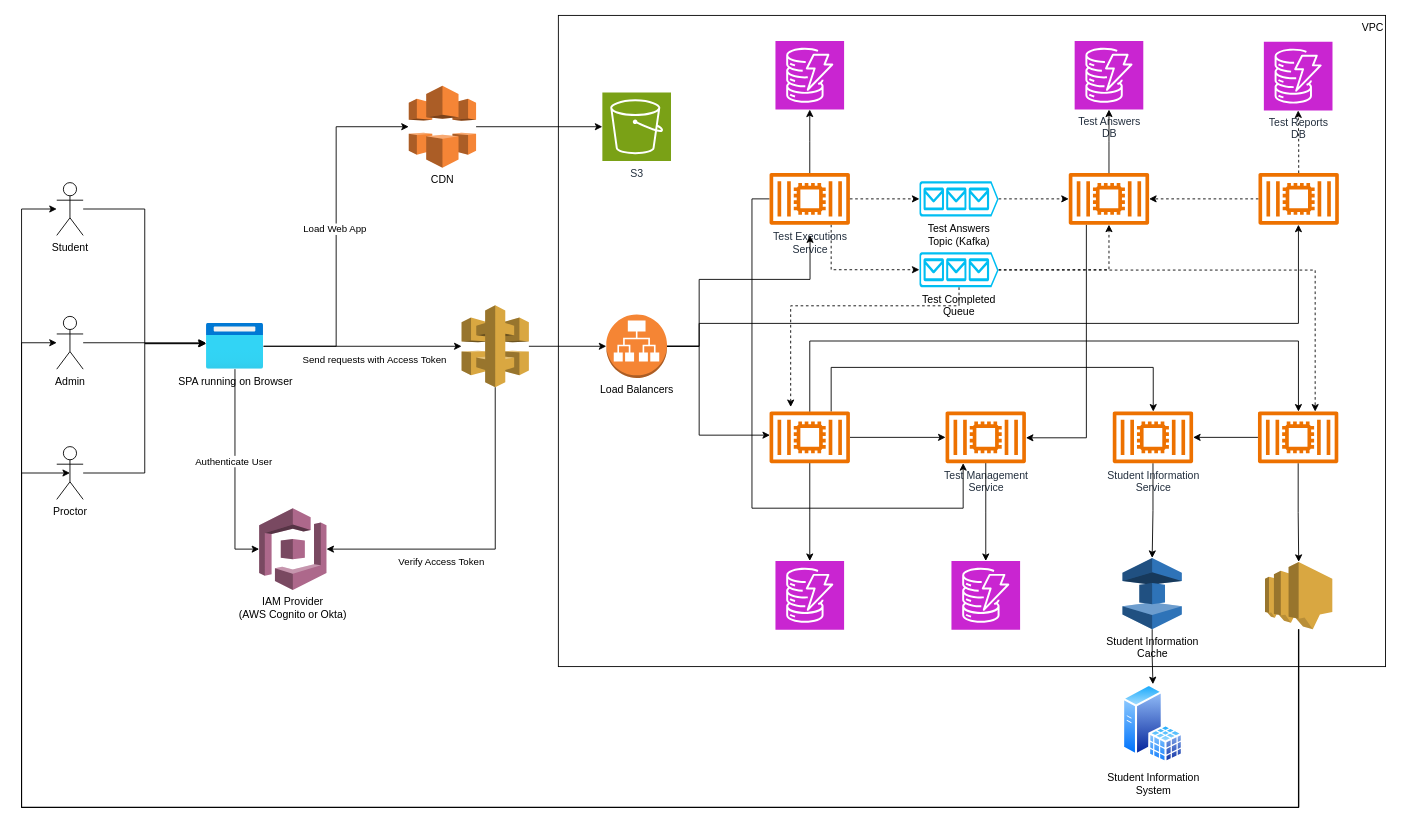
The diagram is 1401 pixels wide and 830 high, and some of its shapes have lost their labels. Here are the shapes that lost their labels. From the top down, the box of each, then its label:
(775, 40, 844, 110): Test Executions DB
(1068, 172, 1149, 224): Test Answers Service
(1258, 172, 1338, 224): Test Report Service
(461, 304, 529, 387): API Gateway (AWS or Kong)
(769, 411, 849, 463): Rosters Management Service
(1258, 411, 1338, 463): Notification Service
(775, 560, 844, 630): Rosters DB
(951, 560, 1020, 630): Tests DB
(1264, 561, 1332, 629): SNS
